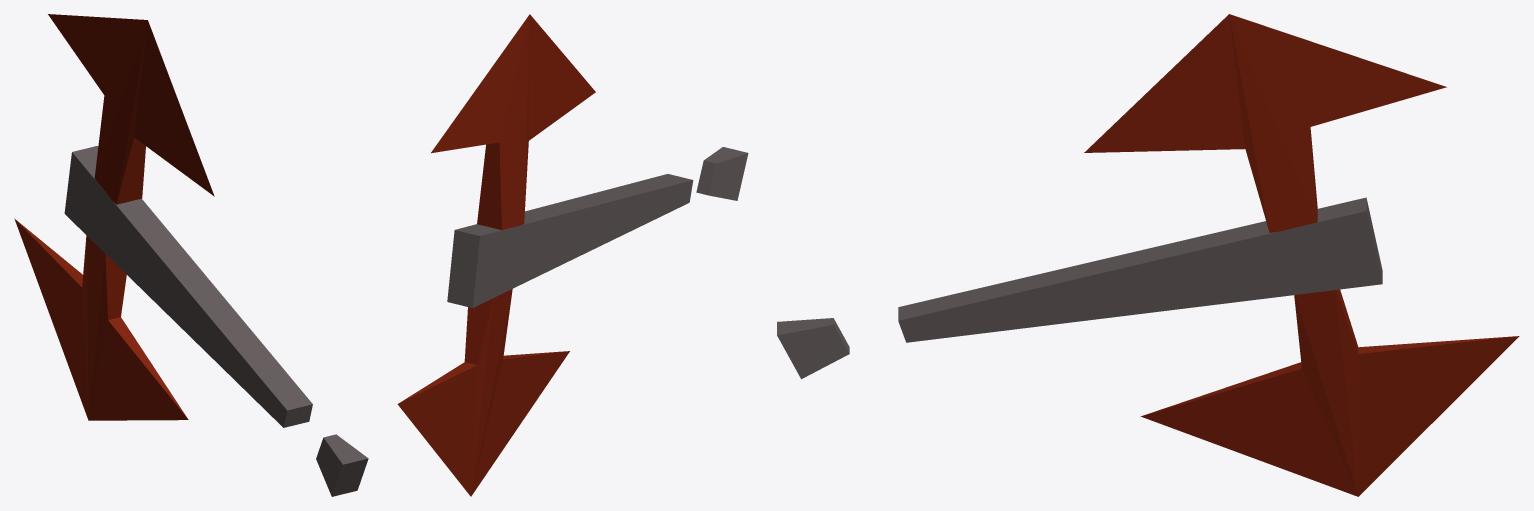
File: itm_model0_dragon_battleaxe.obj
3 renders of one model, left to right at view 1: azimuth 30°, elevation 25°; view 2: azimuth 150°, elevation 25°; view 3: azimuth 270°, elevation 25°, orthographic. The views are drawn at different scales.
Bounding box in the file's own units: 0.0312 × 0.5156 × 0.7188.
